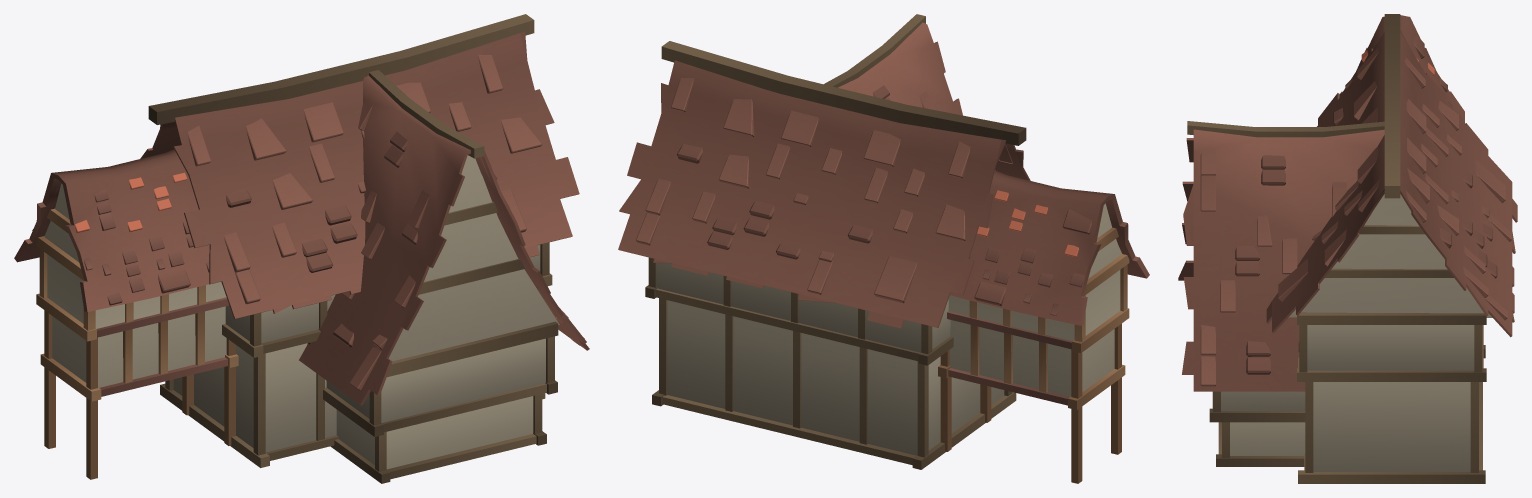
Rendered from ZLP_Build_B_2.FBX.
The picture shows the model from 3 angles, left to right: view 1: azimuth 30°, elevation 25°; view 2: azimuth 150°, elevation 25°; view 3: azimuth 270°, elevation 25°; orthographic projection. The views are drawn at different scales.
Visible parts, largest first — view 1: ZLP_Build_B_2; view 2: ZLP_Build_B_2; view 3: ZLP_Build_B_2.
Boxes of the visible parts, bbox=[...] form: ZLP_Build_B_2: bbox=[14, 14, 589, 483]; ZLP_Build_B_2: bbox=[618, 14, 1149, 483]; ZLP_Build_B_2: bbox=[1178, 14, 1517, 483].
Bounding box in the file's own units: 1182 × 799 × 777.
